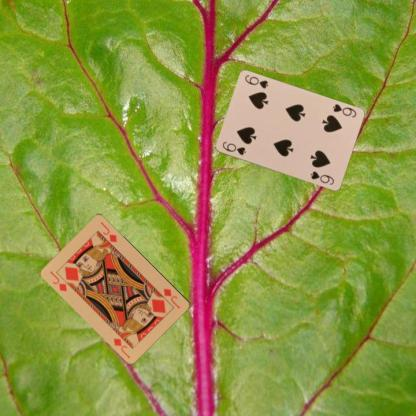6s: (219, 139, 247, 157), (330, 101, 357, 119)
Jd: (161, 286, 182, 310), (48, 269, 68, 293)
